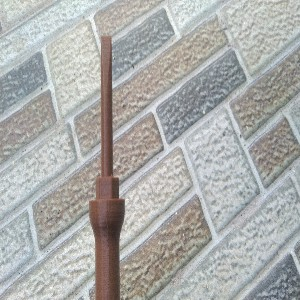obeng: (89, 34, 126, 300)
